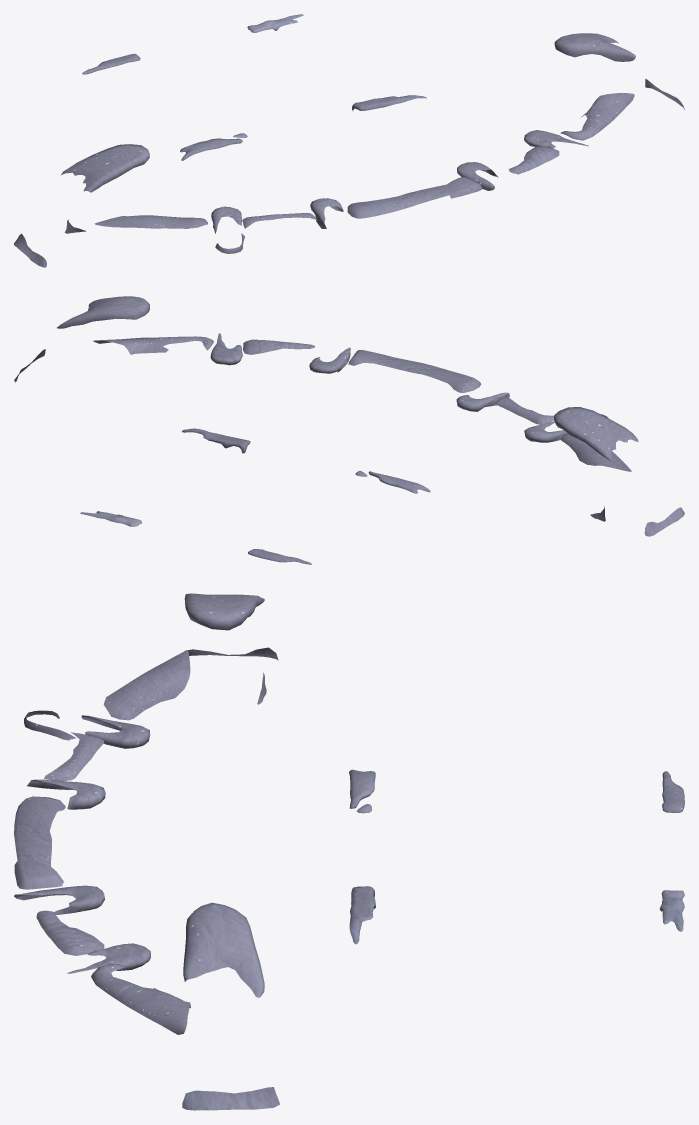
The model's file is pref_sm_beach_winter_snow17_lv2.fbx.
The picture shows the model from 3 angles, top to bottom: view 1: azimuth 30°, elevation 25°; view 2: azimuth 150°, elevation 25°; view 3: azimuth 270°, elevation 25°; orthographic projection. The views are drawn at different scales.
Parts seen in each view (by area): view 1: pref_sm_beach_winter_snow17_lv2; view 2: pref_sm_beach_winter_snow17_lv2; view 3: pref_sm_beach_winter_snow17_lv2.
Part boxes in pixels (x1,y1,x2,y2): pref_sm_beach_winter_snow17_lv2: (14, 14, 684, 267); pref_sm_beach_winter_snow17_lv2: (14, 296, 684, 564); pref_sm_beach_winter_snow17_lv2: (14, 593, 684, 1110).
Bounding box in the file's own units: 38.65 × 5.04 × 24.07.
